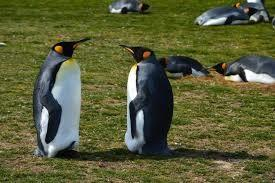king: (26, 31, 108, 161), (113, 30, 188, 165)
